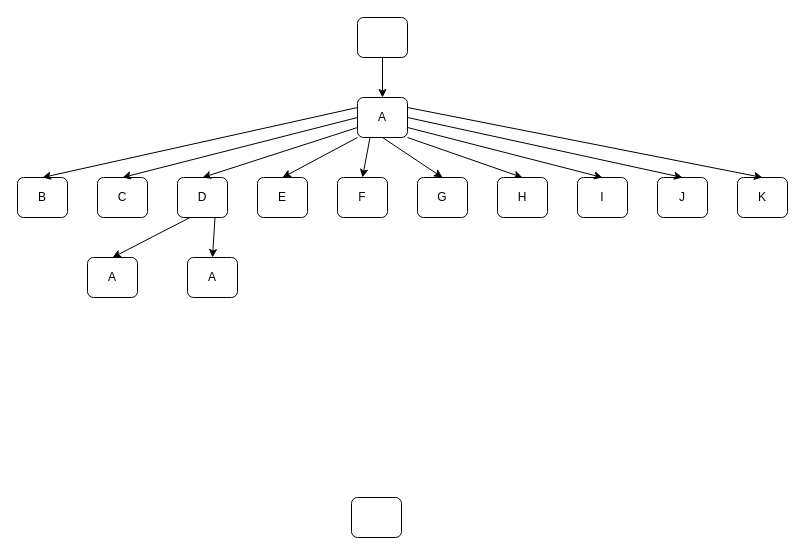
Some shapes in this 805 by 555 pixel diagram are drawn without their labels. Here are the shapes that lost their labels. From the top down, the box of each, then its label:
(356, 16, 408, 58): Start
(350, 496, 402, 538): End
